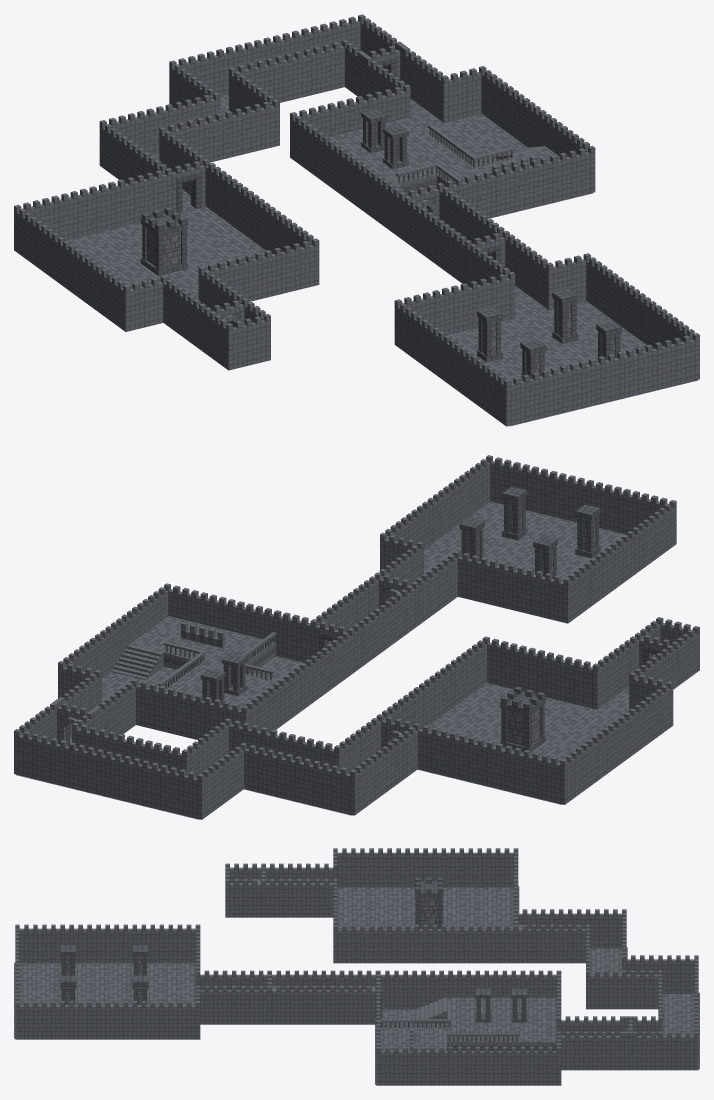
Rendered from stage.fbx.
3 renders of one model, top to bottom at view 1: azimuth 30°, elevation 25°; view 2: azimuth 150°, elevation 25°; view 3: azimuth 270°, elevation 25°, orthographic. The views are drawn at different scales.
Visible parts, largest first — view 1: Castle_Tower_5, Castle_Wall_13, Castle_Wall_10_12, Castle_Wall_10__7_, Castle_Wall_10__7__23, Castle_Wall_10__6__1, Castle_Wall_10__6__2, Castle_Wall_10__6__5, Castle_Wall_10__6__11, Castle_Wall_10__6__6, Castle_Wall_10__7__3, Castle_Wall_10__7__21 (+98 smaller); view 2: Castle_Tower_5, Castle_Wall_10__7_, Castle_Wall_10__7__5, Castle_Wall_10__5__3, Castle_Wall_10__6__3, Castle_Wall_10__1__7, Castle_Wall_10__8__8, Castle_Wall_10__6__9, Castle_Wall_10__9__1, Castle_Wall_10__4__2, Castle_Wall_10__6__12, Castle_Wall_10__7__21 (+100 smaller); view 3: Castle_Wall_10, Castle_Wall_10__7_, Castle_Wall_10__8_, Castle_Wall_10__3__3, Castle_Wall_10__7__7, Castle_Wall_10__5__2, Castle_Wall_10__5__1, Castle_Wall_10_13, Castle_Wall_10__7__10, Castle_Wall_10__7__11, Castle_Tower_5, Castle_Wall_10__8__4 (+89 smaller).
Boxes of the visible parts, x1,y1,x2,y2 form: Castle_Tower_5: [141, 207, 187, 275]; Castle_Wall_13: [226, 314, 270, 369]; Castle_Wall_10_12: [123, 277, 163, 331]; Castle_Wall_10__7_: [630, 289, 678, 348]; Castle_Wall_10__7__23: [281, 238, 319, 293]; Castle_Wall_10__6__1: [654, 335, 695, 389]; Castle_Wall_10__6__2: [617, 344, 657, 398]; Castle_Wall_10__6__5: [550, 148, 590, 202]; Castle_Wall_10__6__11: [243, 247, 281, 301]; Castle_Wall_10__6__6: [512, 157, 552, 211]; Castle_Wall_10__7__3: [579, 353, 619, 407]; Castle_Wall_10__7__21: [97, 177, 134, 232]; Castle_Tower_5: [500, 686, 545, 751]; Castle_Wall_10__7_: [427, 470, 471, 545]; Castle_Wall_10__7__5: [531, 570, 570, 623]; Castle_Wall_10__5__3: [160, 764, 197, 818]; Castle_Wall_10__6__3: [494, 562, 533, 614]; Castle_Wall_10__1__7: [276, 751, 313, 805]; Castle_Wall_10__8__8: [50, 738, 87, 791]; Castle_Wall_10__6__9: [523, 750, 560, 803]; Castle_Wall_10__9__1: [14, 729, 50, 782]; Castle_Wall_10__4__2: [556, 654, 592, 708]; Castle_Wall_10__6__12: [124, 756, 160, 809]; Castle_Wall_10__7__21: [450, 732, 486, 785]; Castle_Wall_10: [272, 985, 344, 1024]; Castle_Wall_10__7_: [51, 1001, 123, 1039]; Castle_Wall_10__8_: [159, 924, 195, 963]; Castle_Wall_10__3__3: [590, 970, 626, 1009]; Castle_Wall_10__7__7: [87, 924, 123, 963]; Castle_Wall_10__5__2: [337, 848, 373, 887]; Castle_Wall_10__5__1: [520, 1046, 556, 1085]; Castle_Wall_10_13: [518, 924, 554, 963]; Castle_Wall_10__7__10: [412, 1046, 448, 1085]; Castle_Wall_10__7__11: [376, 1046, 412, 1085]; Castle_Tower_5: [415, 877, 443, 928]; Castle_Wall_10__8__4: [337, 924, 373, 963].
Size of the model in its own units: 7876 by 760 by 11400.
Materials: 1 (1 with a texture image).
